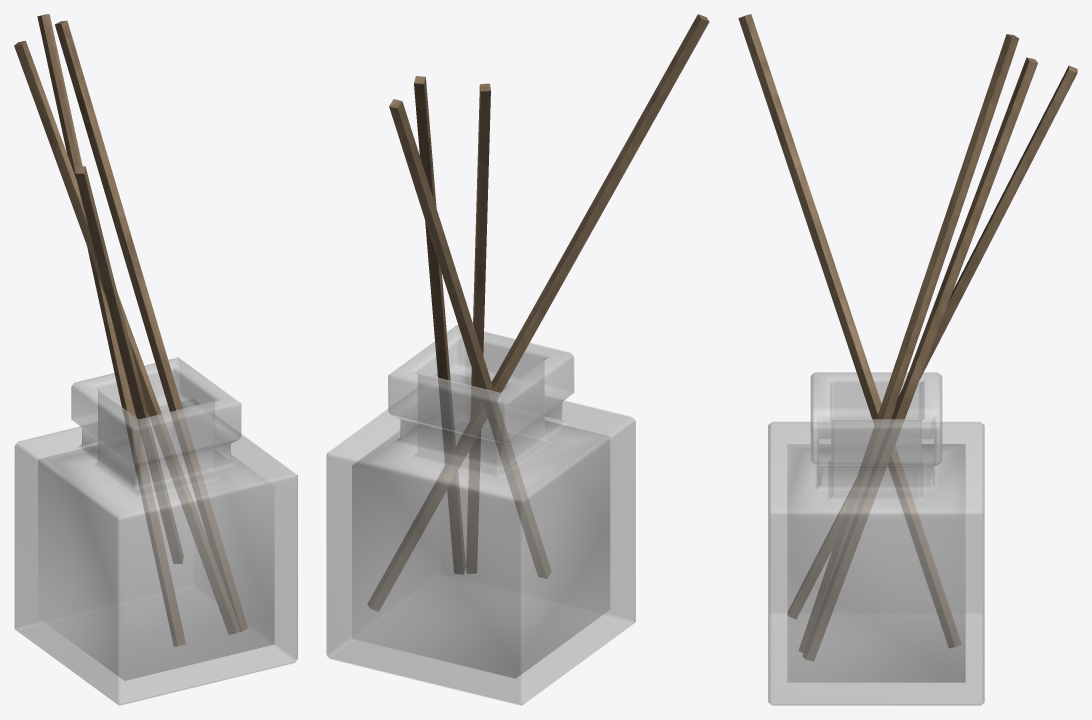
File: incienso.glb
The picture shows the model from 3 angles, left to right: view 1: azimuth 30°, elevation 25°; view 2: azimuth 150°, elevation 25°; view 3: azimuth 270°, elevation 25°; orthographic projection. The views are drawn at different scales.
Parts seen in each view (by area): view 1: parfume_stick.001; view 2: parfume_stick.001; view 3: parfume_stick.001.
Boxes of the visible parts, left/top/right/bottom form: parfume_stick.001: left=14, top=14, right=297, bottom=705; parfume_stick.001: left=326, top=14, right=709, bottom=705; parfume_stick.001: left=738, top=14, right=1077, bottom=705.
Bounding box in the file's own units: 0.0821 × 0.1914 × 0.0991.
2 materials, 1 textured.
